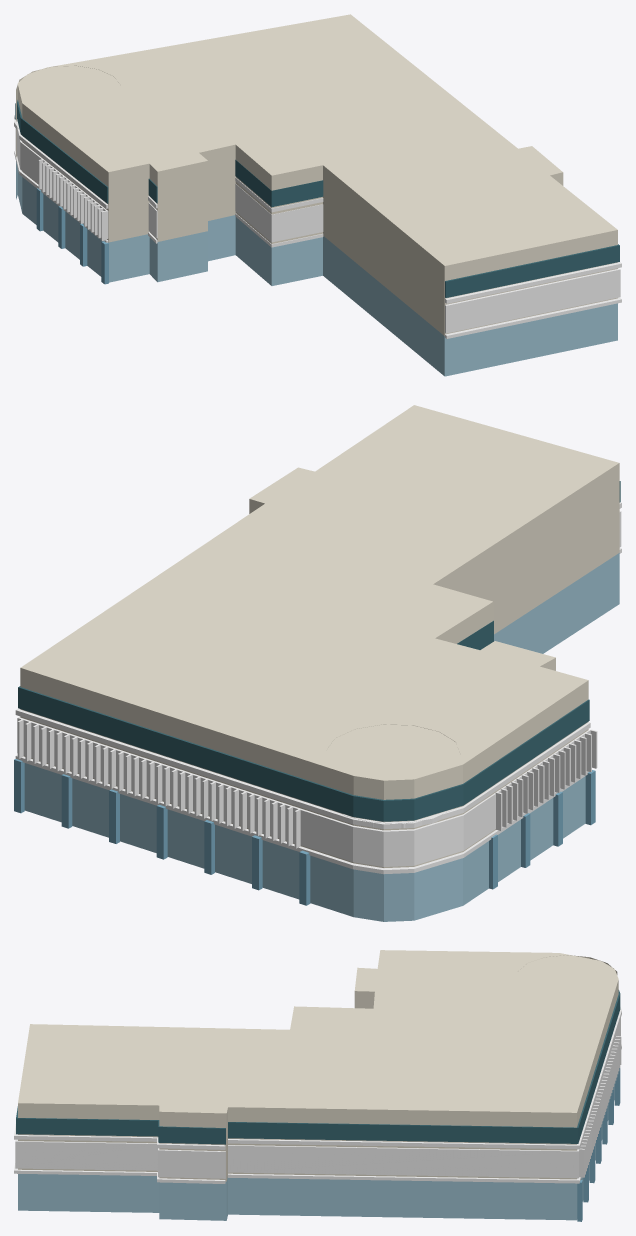
File: ora_expolis.glb
The picture shows the model from 3 angles, top to bottom: view 1: azimuth 30°, elevation 25°; view 2: azimuth 150°, elevation 25°; view 3: azimuth 270°, elevation 25°; orthographic projection. The views are drawn at different scales.
Parts seen in each view (by area): view 1: ora_expolis_lod0; view 2: ora_expolis_lod0; view 3: ora_expolis_lod0.
Part boxes in pixels (x1=…): ora_expolis_lod0: x1=14, y1=14, x2=621, y2=376; ora_expolis_lod0: x1=14, y1=405, x2=621, y2=921; ora_expolis_lod0: x1=14, y1=950, x2=621, y2=1221.
Size of what is drawn, in the model's own units: 29.44 by 8.84 by 45.14.
